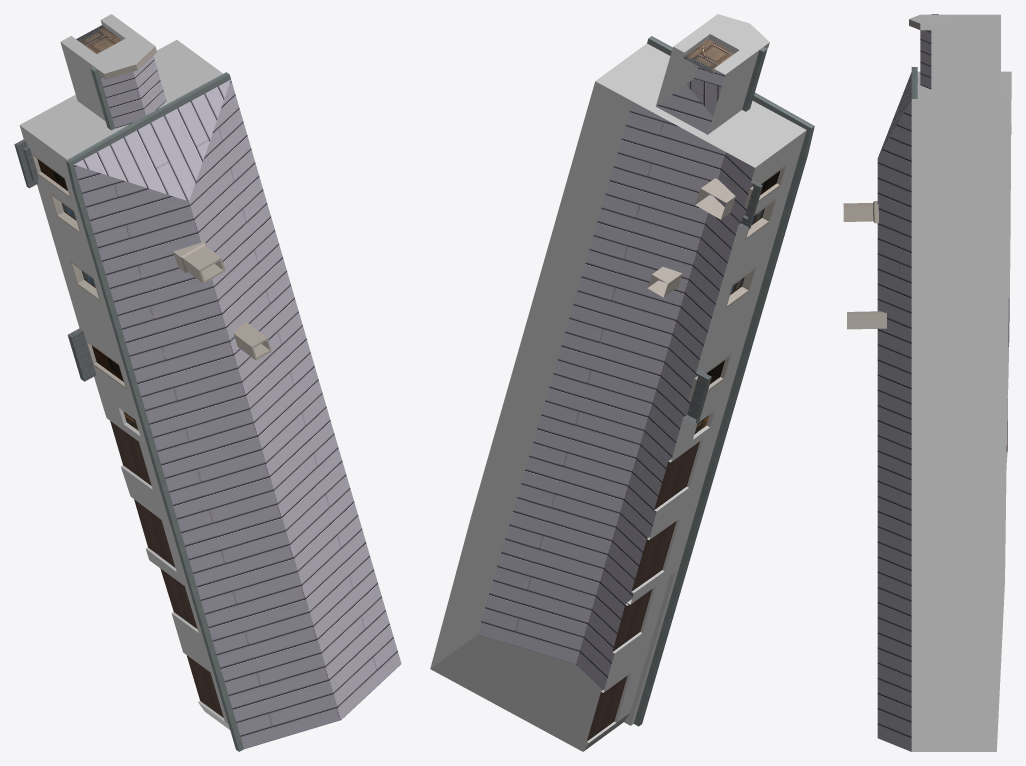
File: Wismari7_2.obj
3 renders of one model, left to right at view 1: azimuth 30°, elevation 25°; view 2: azimuth 150°, elevation 25°; view 3: azimuth 270°, elevation 25°, orthographic. The views are drawn at different scales.
Visible parts, largest first — view 1: W7_BuildingA01; view 2: W7_BuildingA01; view 3: W7_BuildingA01.
Boxes of the visible parts, left/top/right/bottom form: W7_BuildingA01: left=14, top=14, right=401, bottom=751; W7_BuildingA01: left=430, top=14, right=814, bottom=751; W7_BuildingA01: left=843, top=14, right=1011, bottom=751.
Size of the model in its own units: 15.37 by 31.84 by 7.3.
